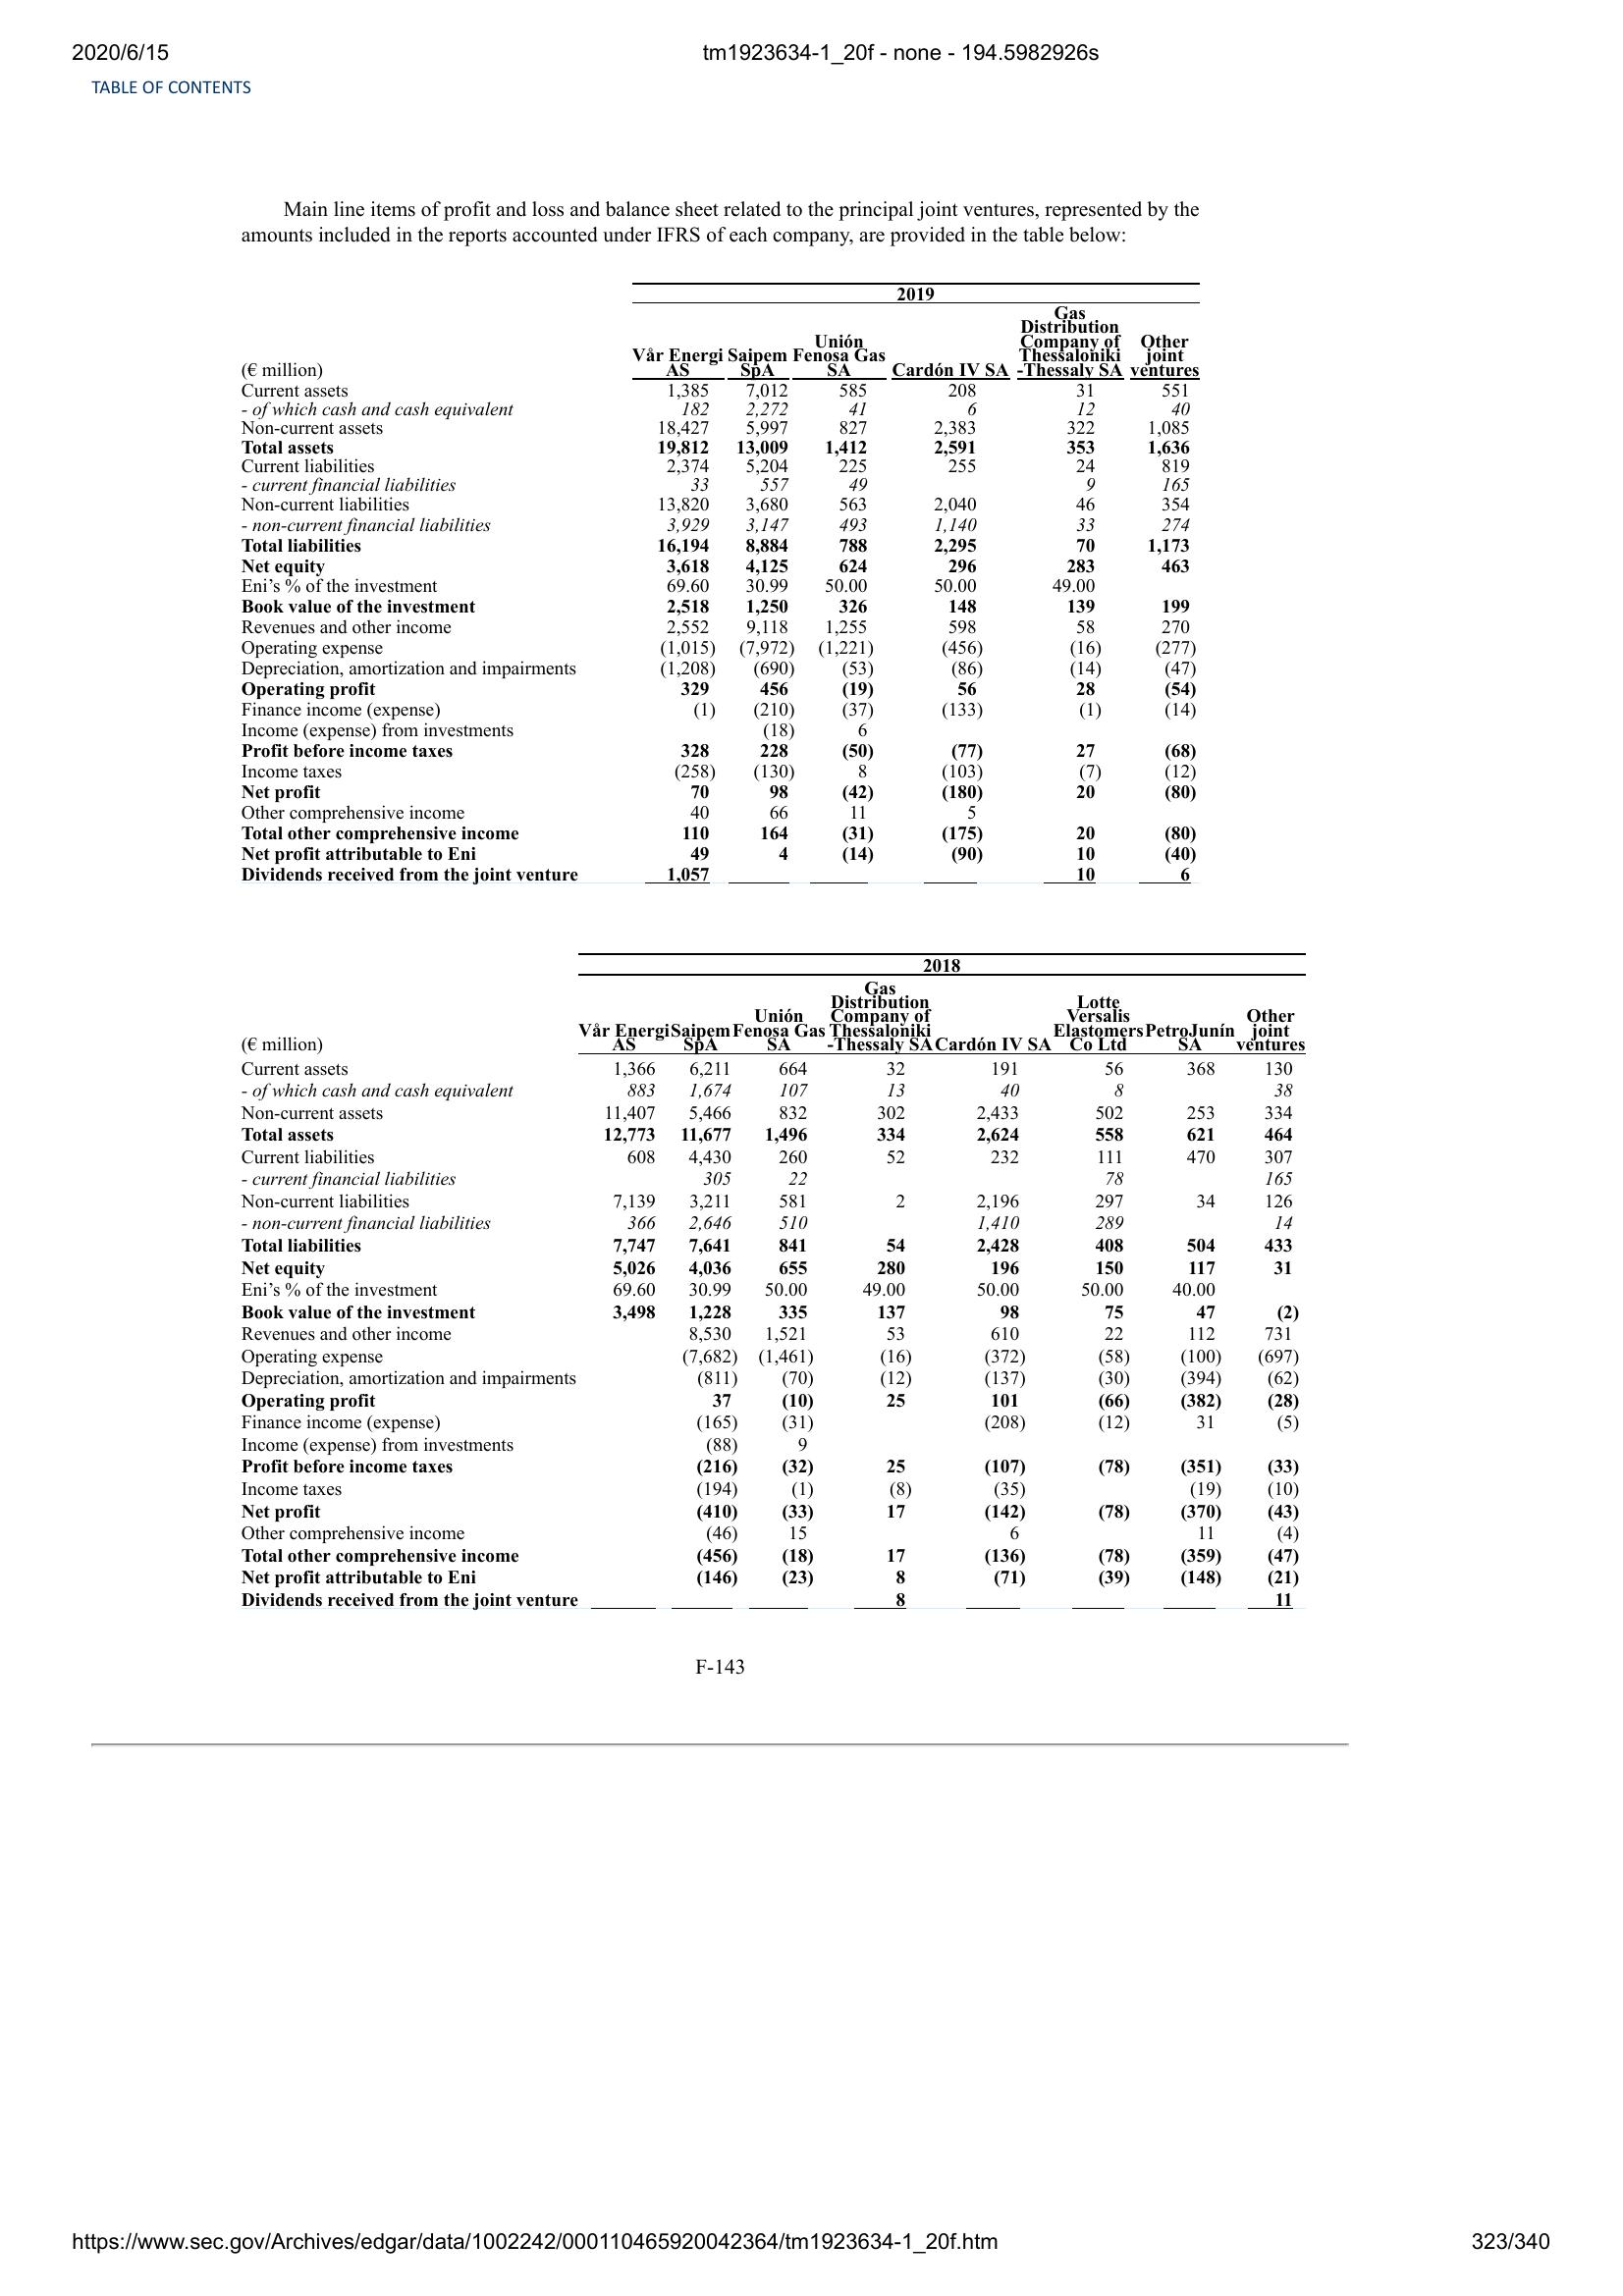table: (234, 943, 1309, 1624), (234, 272, 1208, 888)
